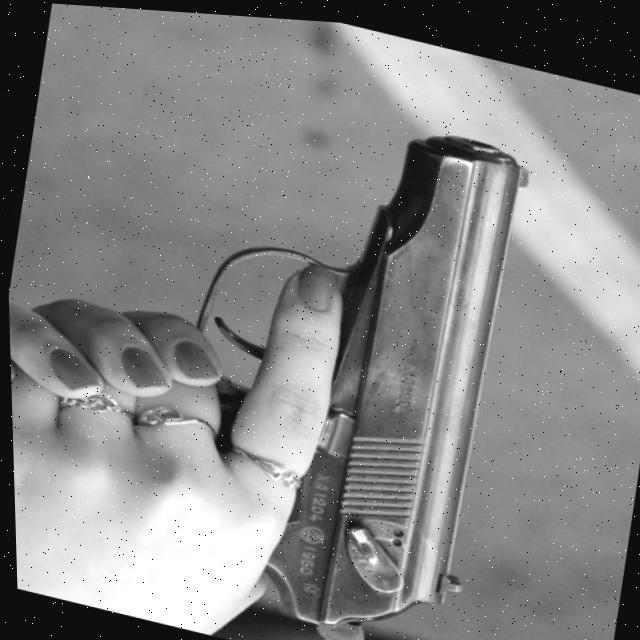pistol: (134, 68, 549, 640)
